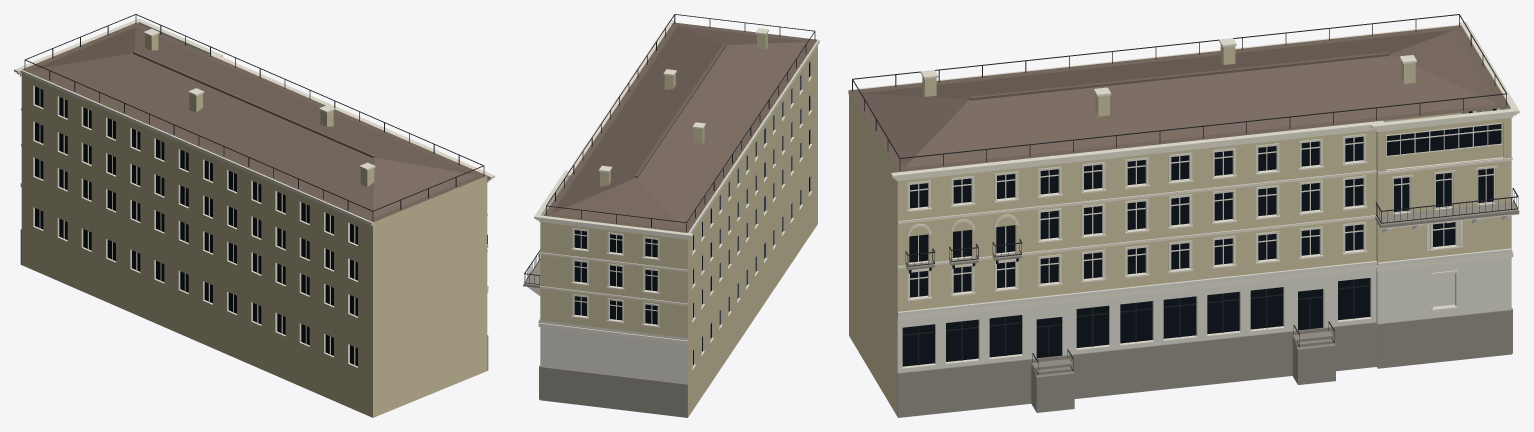
3 renders of one model, left to right at view 1: azimuth 30°, elevation 25°; view 2: azimuth 150°, elevation 25°; view 3: azimuth 270°, elevation 25°, orthographic. The views are drawn at different scales.
Visible parts, largest first — view 1: bm14_wall, bm14_roof, bm14_trim, bm14_glass, bm14_metal; view 2: bm14_wall, bm14_roof, bm14_trim, bm14_wall2, bm14_stone, bm14_glass, bm14_metal; view 3: bm14_wall, bm14_roof, bm14_trim, bm14_glass, bm14_stone, bm14_wall2, bm14_metal.
Boxes of the visible parts, x1,y1,x2,y2 form: bm14_wall: (21, 34, 487, 417); bm14_roof: (22, 23, 486, 222); bm14_trim: (14, 18, 494, 367); bm14_glass: (35, 86, 357, 366); bm14_metal: (24, 14, 487, 244); bm14_wall: (540, 33, 817, 416); bm14_roof: (543, 22, 817, 232); bm14_trim: (523, 20, 819, 369); bm14_wall2: (538, 318, 687, 384); bm14_stone: (523, 260, 687, 417); bm14_glass: (574, 62, 810, 365); bm14_metal: (524, 14, 815, 284); bm14_wall: (849, 44, 1511, 416); bm14_roof: (849, 25, 1509, 172); bm14_trim: (848, 21, 1519, 368); bm14_glass: (902, 108, 1501, 366); bm14_stone: (897, 201, 1519, 417); bm14_wall2: (897, 248, 1511, 372); bm14_metal: (852, 14, 1518, 374).
Size of the model in its own units: 24.29 by 20.44 by 44.71.
